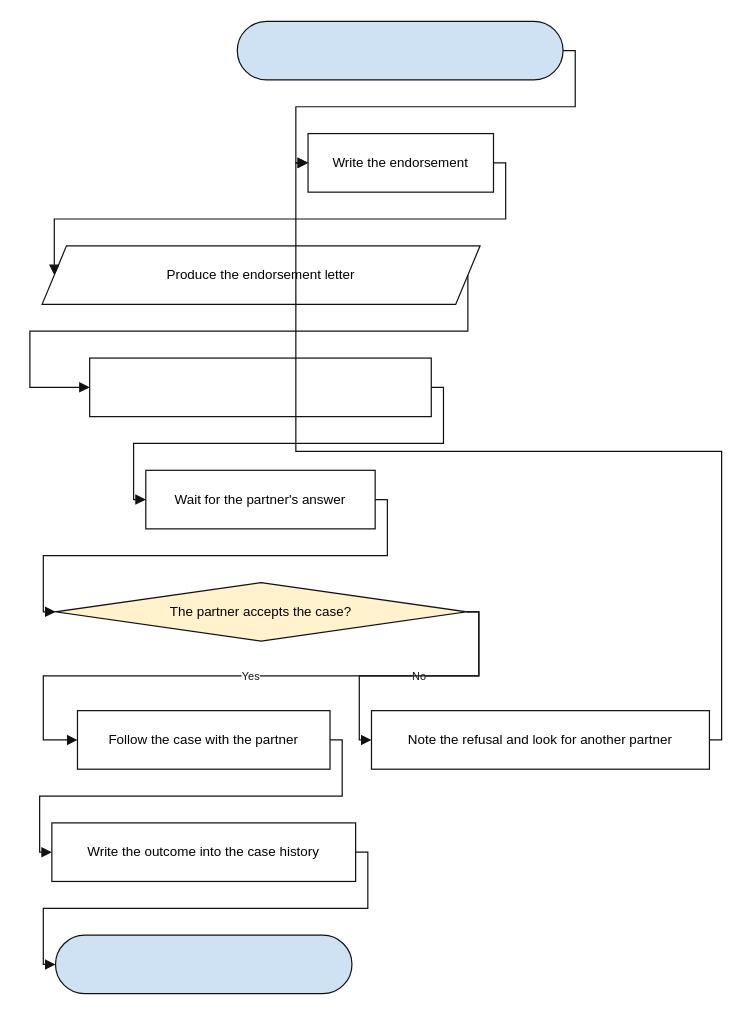
Some shapes in this 753 by 1015 pixel diagram are drawn without their labels. The shapes that lost their labels are listed below. From the top down, each one's centre as x and y in pixels, then its label:
(399,50): A need arises that only a partner can meet
(259,387): Hand the endorsement to the partner agency
(203,964): The referral is closed with an outcome
